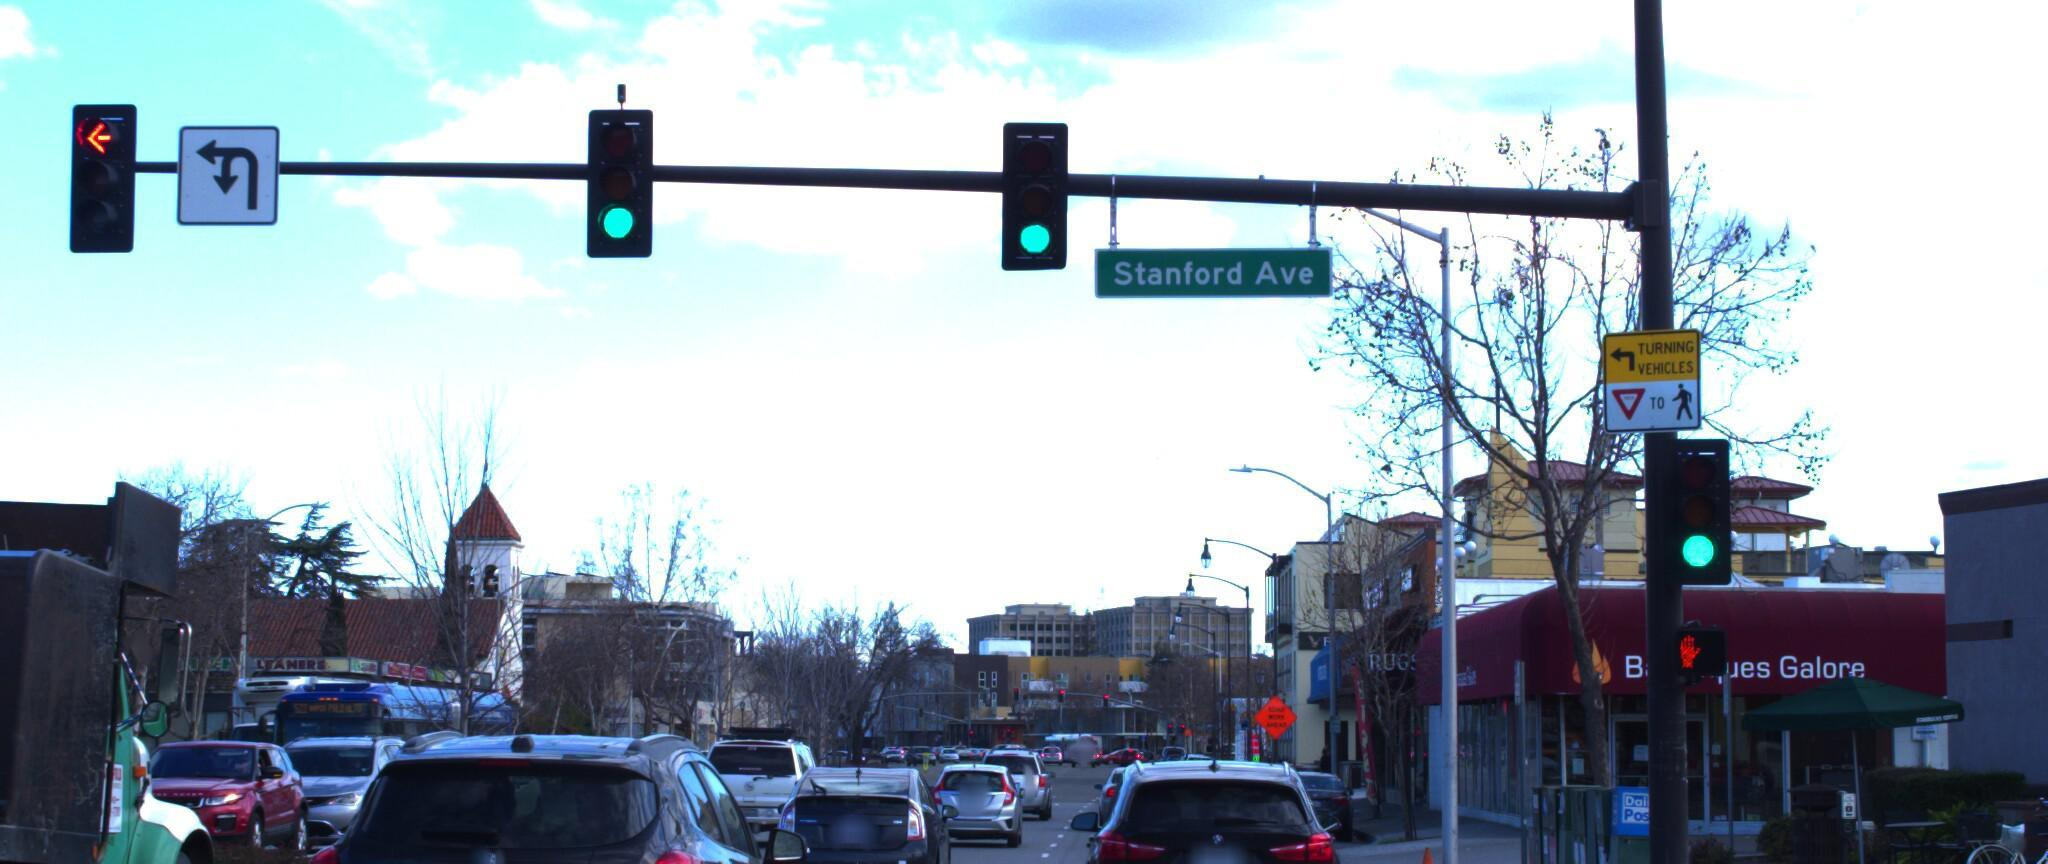bicycle: (1917, 777, 2048, 864)
bus: (257, 666, 534, 827)
car: (239, 717, 825, 864), (1071, 733, 1351, 864), (81, 724, 324, 861), (210, 724, 447, 856), (761, 743, 957, 864), (694, 709, 833, 844), (920, 758, 1023, 850), (1251, 750, 1349, 827), (989, 740, 1067, 821)
truck: (0, 288, 300, 864)
